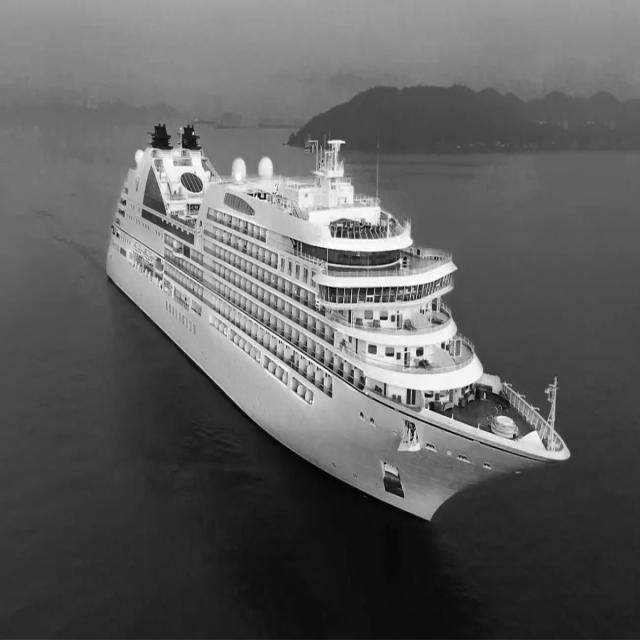Cruise Ship: (94, 76, 576, 576)
